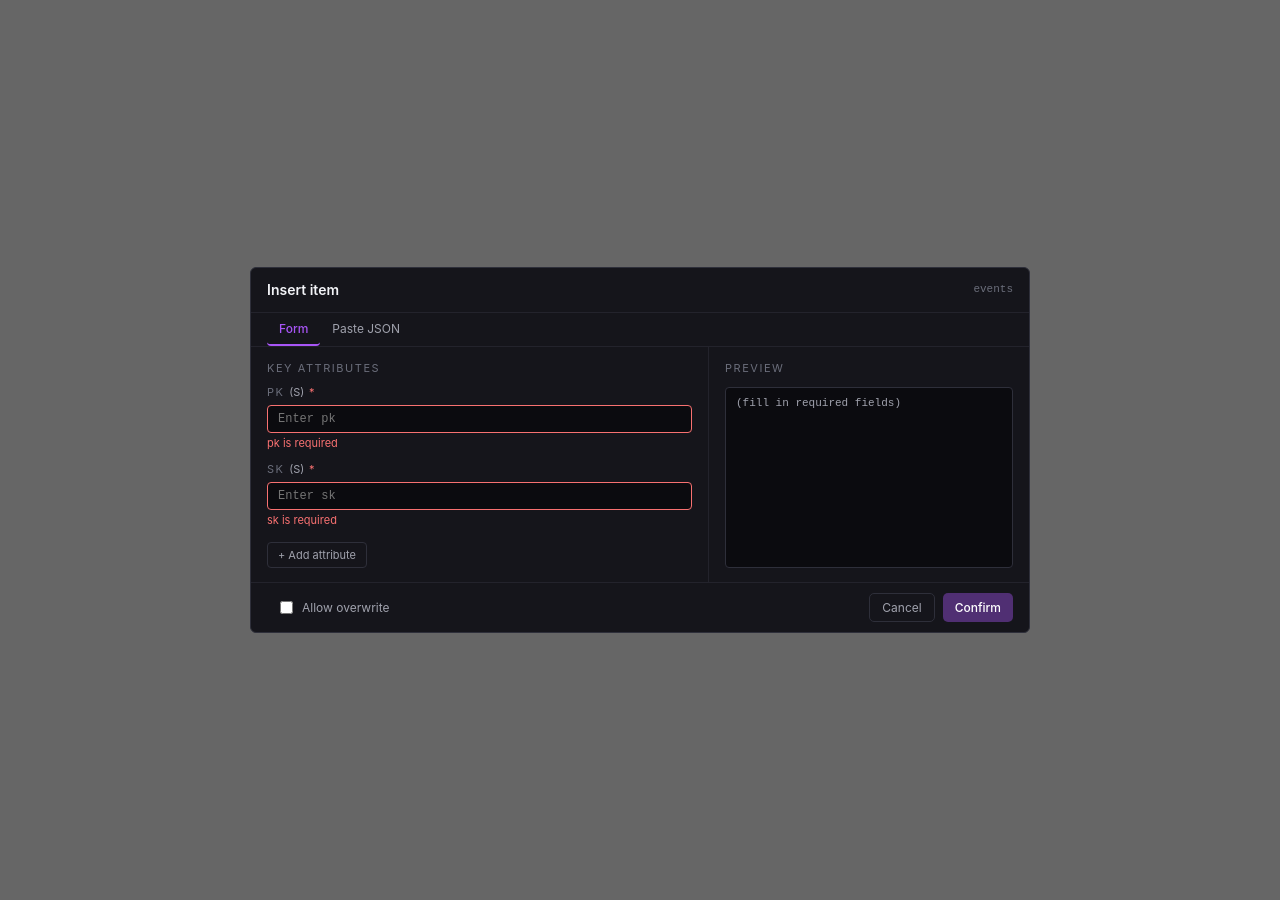
Scenario: InsertModal — paste-JSON validation › Confirm enabled for valid JSON with all keys
What coordinates should you click on to do the following:
click the button with test id "insert-tab-json"
I would click on:
 (366, 329)
Its box is [320,313,412,346].
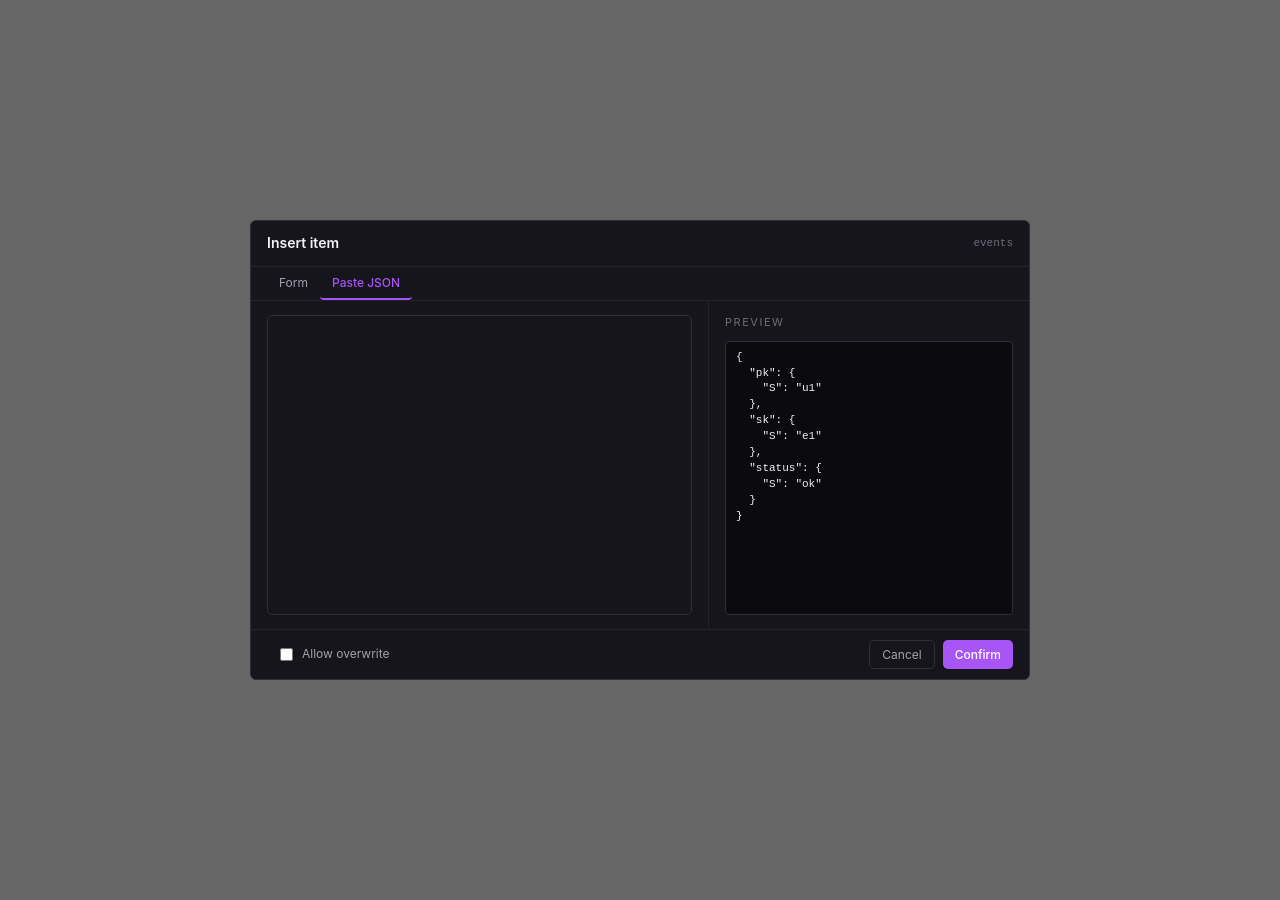
Result: the button with test id "insert-confirm-btn" is enabled at [943,640,1013,669]
